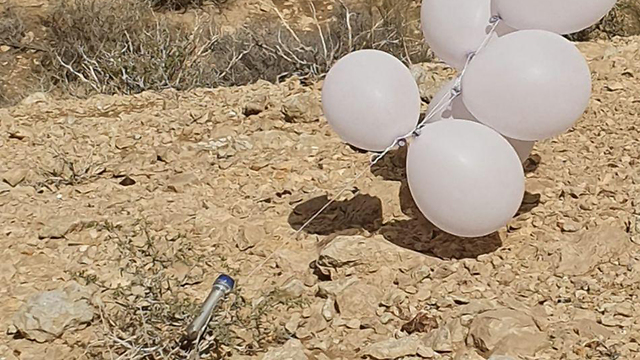Balloon: (462, 29, 594, 141), (406, 120, 525, 237), (321, 49, 421, 149), (420, 1, 503, 69)
